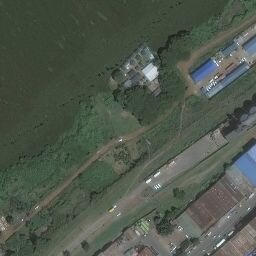tree: (156, 219, 174, 235), (109, 67, 124, 81), (173, 188, 186, 199), (166, 207, 178, 218), (180, 238, 190, 249), (81, 240, 89, 250), (5, 215, 14, 223), (191, 238, 199, 246)
